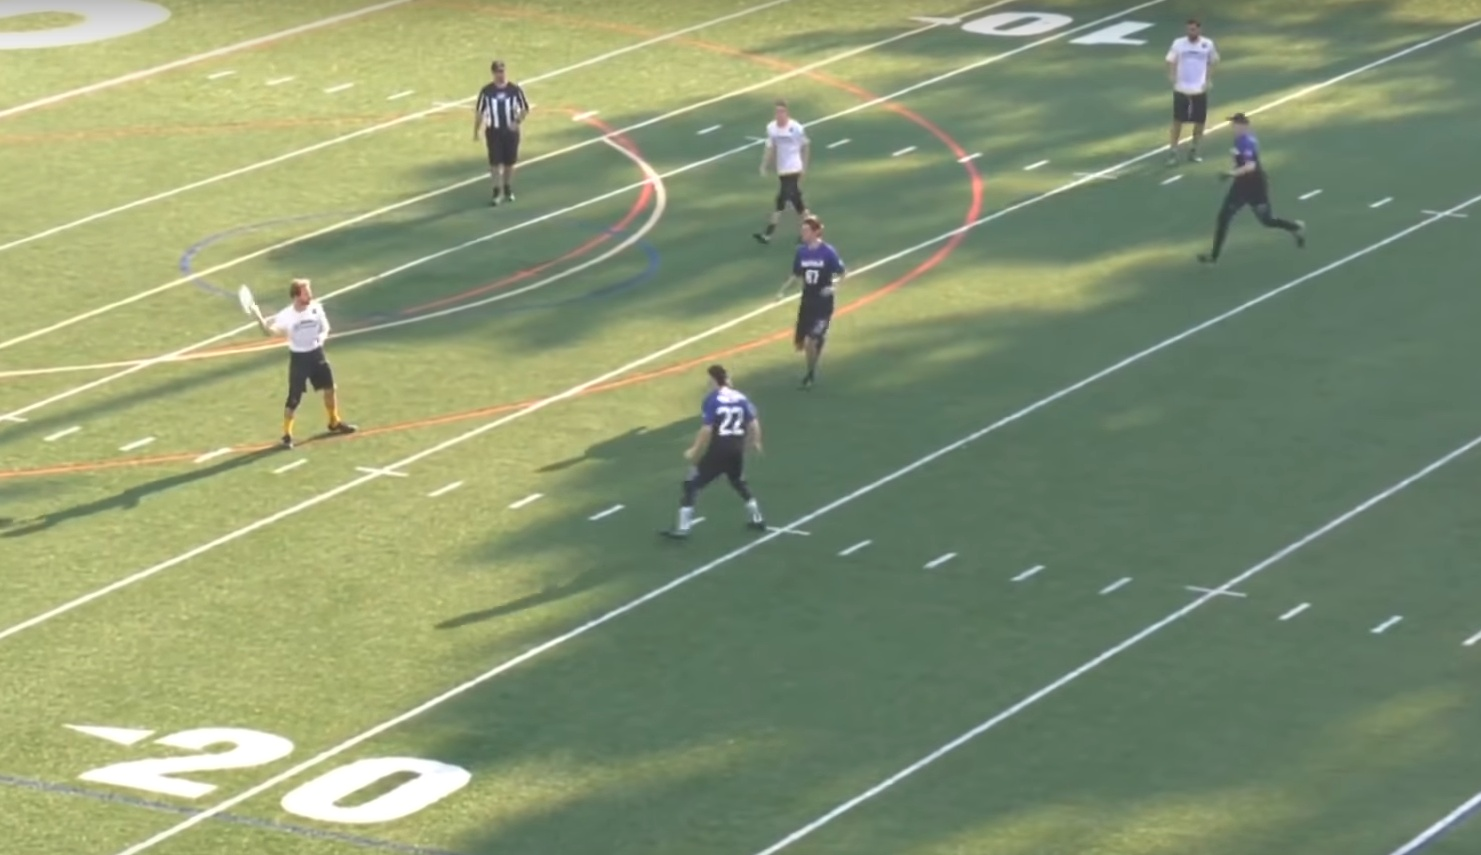frisbee: (238, 284, 257, 315)
